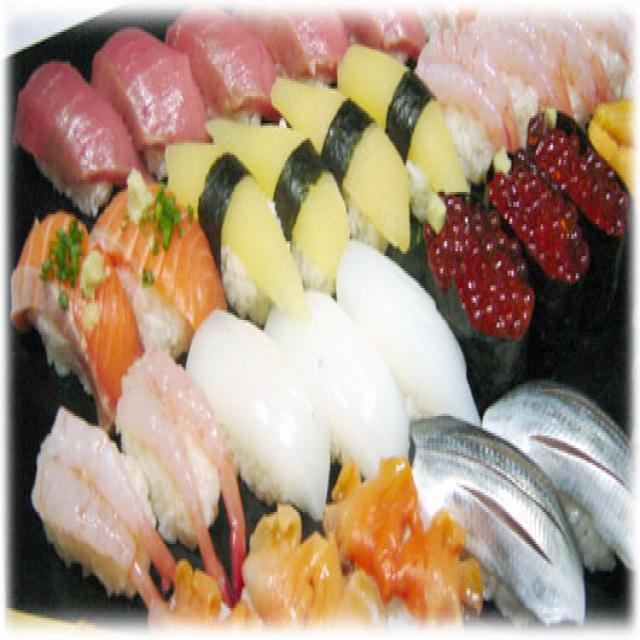寿司卷物: (17, 15, 624, 610)
